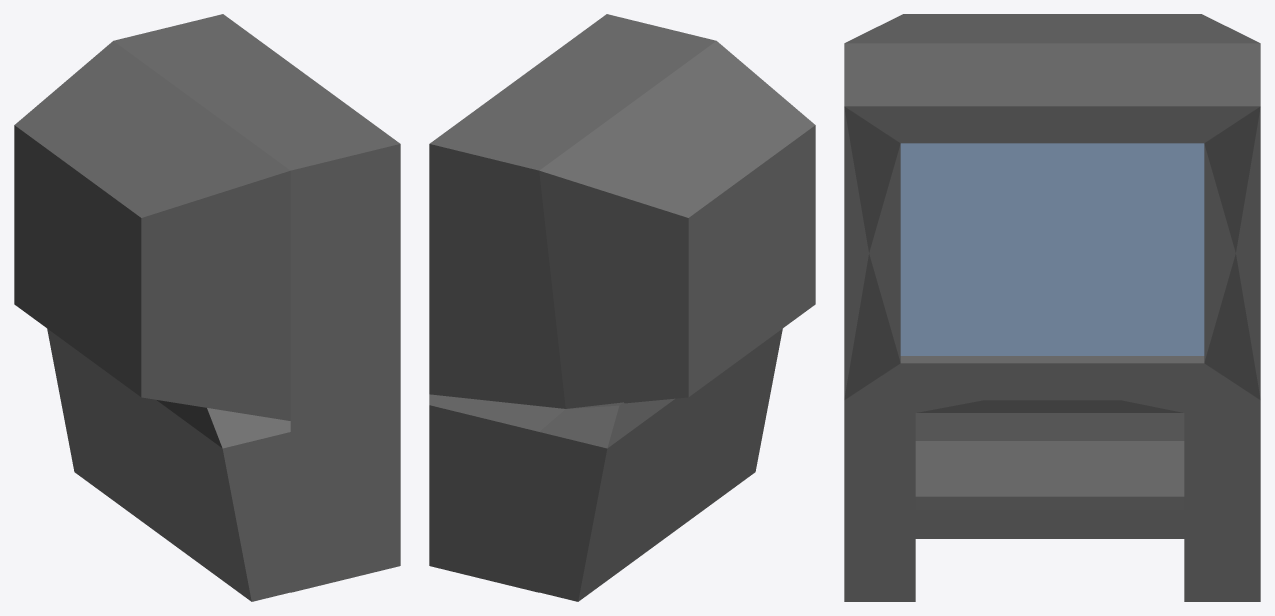
3 renders of one model, left to right at view 1: azimuth 30°, elevation 25°; view 2: azimuth 150°, elevation 25°; view 3: azimuth 270°, elevation 25°, orthographic. The views are drawn at different scales.
Visible parts, largest first — view 1: Cube; view 2: Cube; view 3: Cube.
Boxes of the visible parts, left/top/right/bottom form: Cube: left=14, top=14, right=400, bottom=601; Cube: left=429, top=14, right=815, bottom=601; Cube: left=844, top=14, right=1260, bottom=601.
Size of the model in its own units: 195 by 337 by 257.
